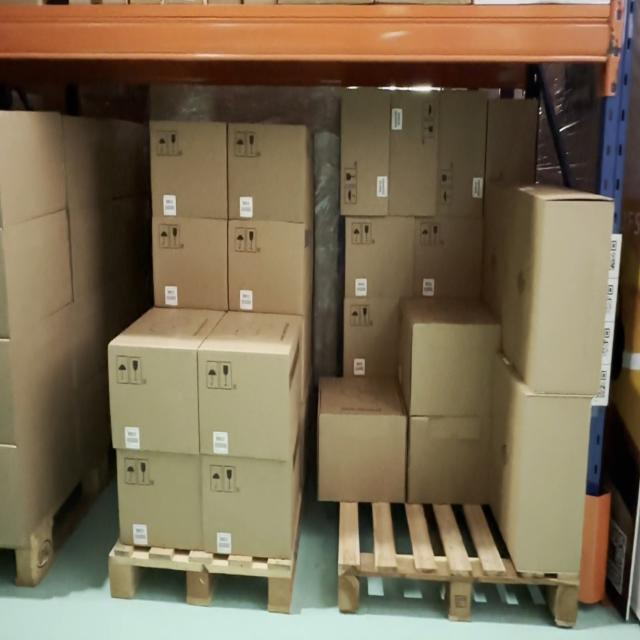box: (528, 201, 613, 399), (519, 395, 589, 567), (204, 457, 294, 557), (201, 357, 289, 454), (118, 450, 202, 551), (111, 353, 195, 453), (412, 329, 502, 418), (318, 412, 406, 502), (151, 120, 228, 218), (228, 128, 304, 224), (385, 90, 439, 216), (228, 225, 308, 310), (410, 419, 497, 497), (155, 222, 228, 310), (342, 88, 385, 218), (444, 92, 486, 219), (414, 219, 483, 296), (348, 218, 413, 296)
